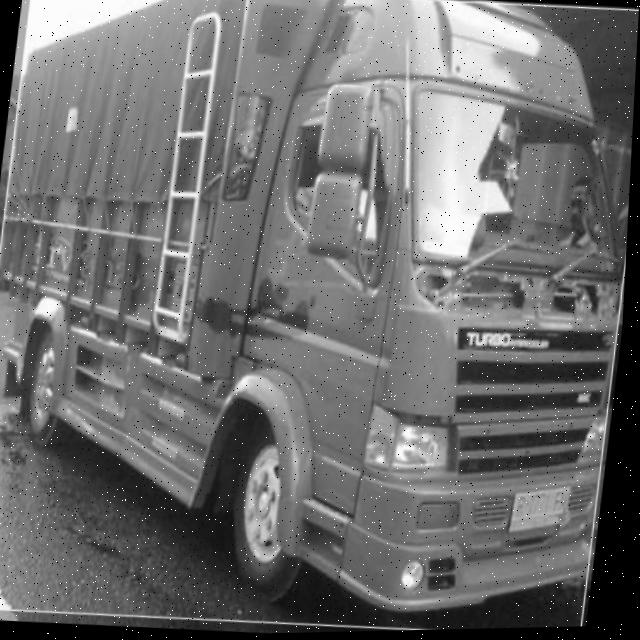truck: (187, 1, 640, 632)
